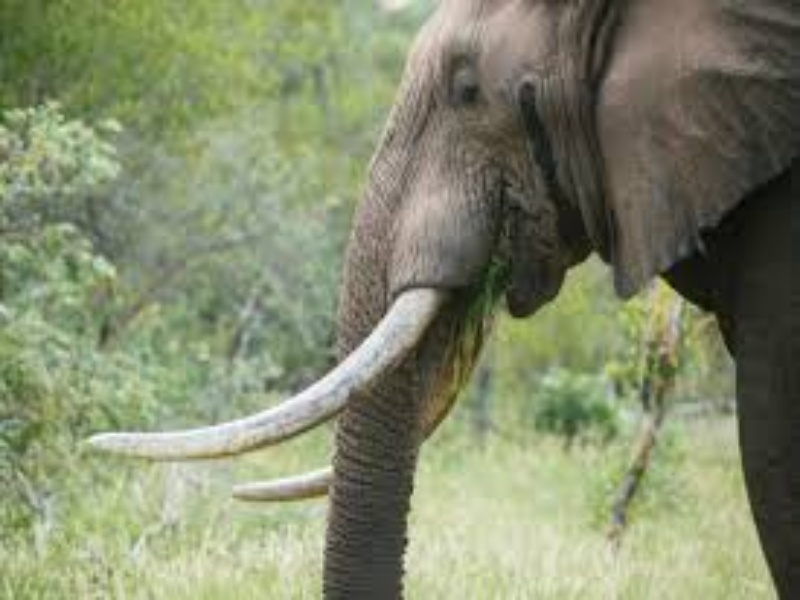elephant: (76, 2, 800, 600)
